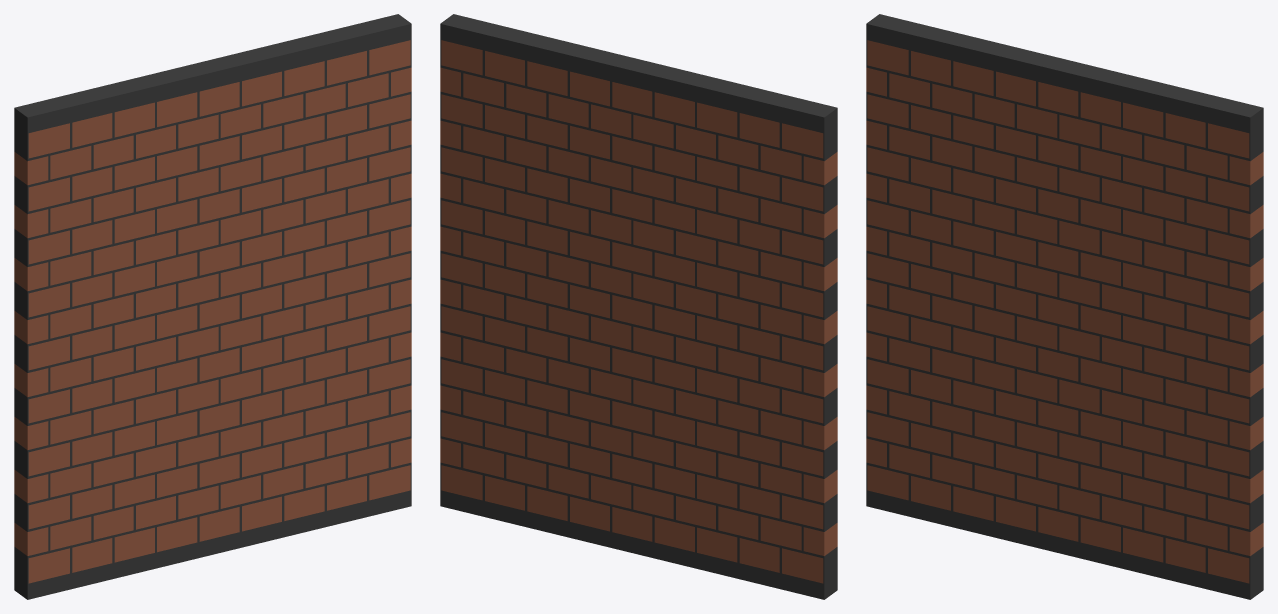
The model's file is Wall2_C10_16.fbx.
3 views of the same model, side by side, from view 1: azimuth 30°, elevation 25°; view 2: azimuth 150°, elevation 25°; view 3: azimuth 330°, elevation 25° (orthographic).
Parts seen in each view (by area): view 1: Wall2_C10_16; view 2: Wall2_C10_16; view 3: Wall2_C10_16.
Boxes of the visible parts, x1,y1,x2,y2 form: Wall2_C10_16: [14, 14, 411, 599]; Wall2_C10_16: [440, 14, 837, 599]; Wall2_C10_16: [866, 14, 1263, 599].
Bounding box in the file's own units: 250 × 300 × 15.
